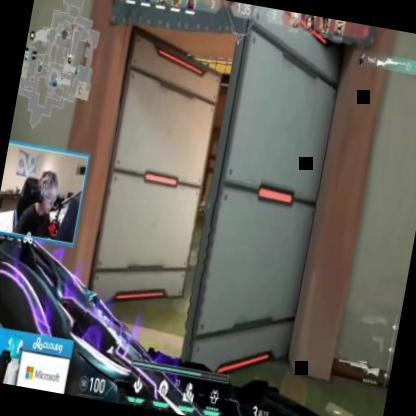enemy: (194, 195, 208, 221)
enemy_head: (201, 196, 204, 202)
